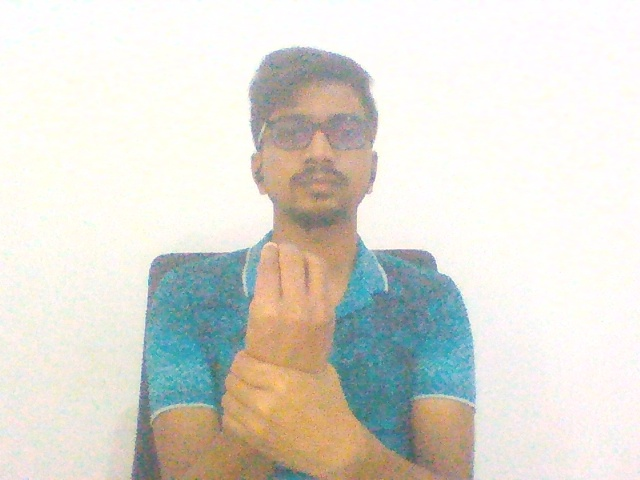tree: (201, 212, 381, 480)
